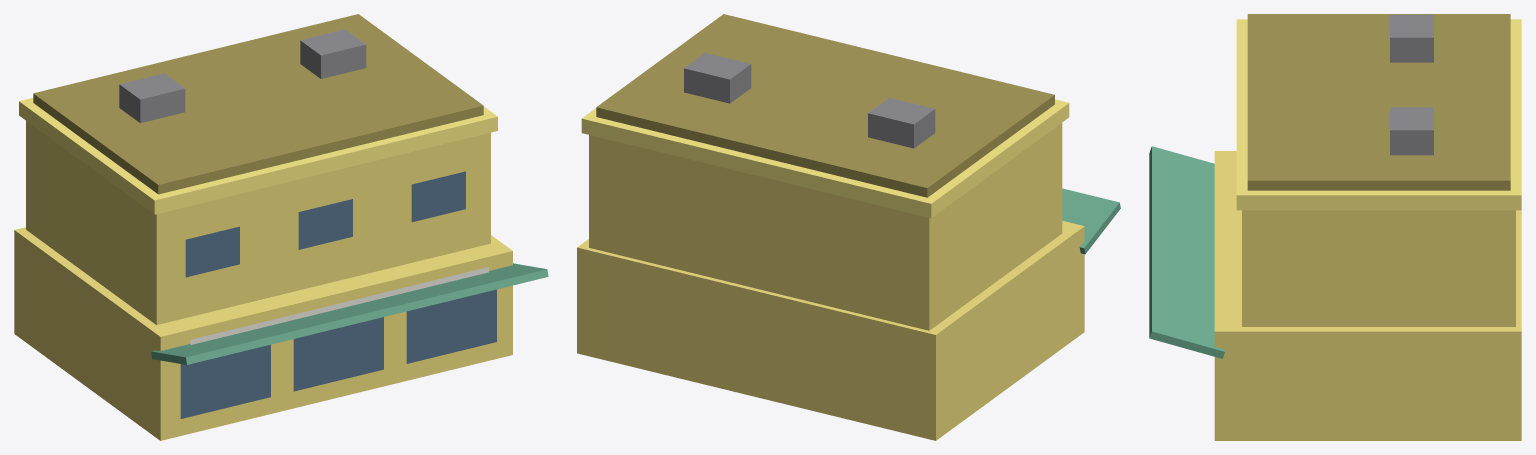
The model's file is shop_row.glb.
3 renders of one model, left to right at view 1: azimuth 30°, elevation 25°; view 2: azimuth 150°, elevation 25°; view 3: azimuth 270°, elevation 25°, orthographic. The views are drawn at different scales.
Parts seen in each view (by area): view 1: shop_row; view 2: shop_row; view 3: shop_row.
Part boxes in pixels (x1,y1,x2,y2): shop_row: [14, 14, 548, 440]; shop_row: [577, 14, 1120, 440]; shop_row: [1149, 14, 1521, 440].
Bounding box in the file's own units: 0.8 × 0.56 × 0.6791.
